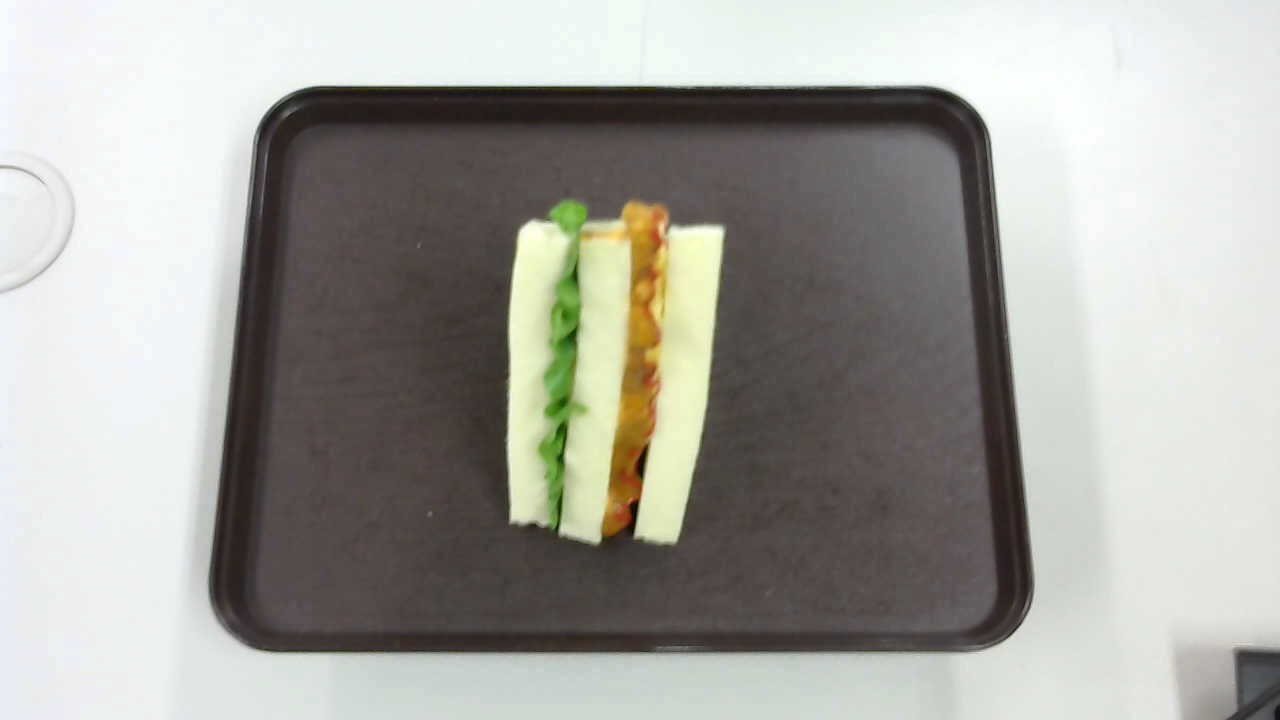sandwich: (505, 198, 726, 547)
